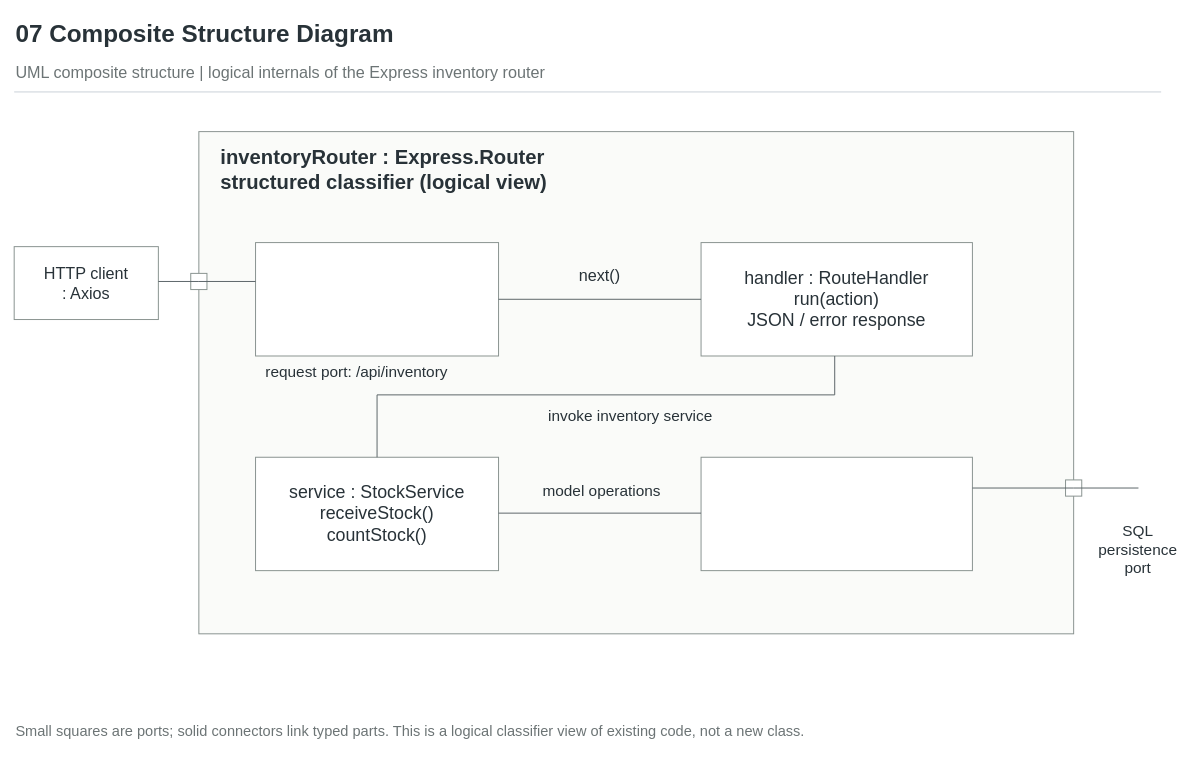
Image size: 1203x765. Some labels were removed from this diagram. The shapes that lost their labels are listed below. From the top down, each one's centre as x and y in pixels, then its label:
point (377, 299): access : Middleware authenticate() allowRoles()
point (836, 513): models : SequelizeModels StockItem, StockBatch StockReceipt, StockMovement
